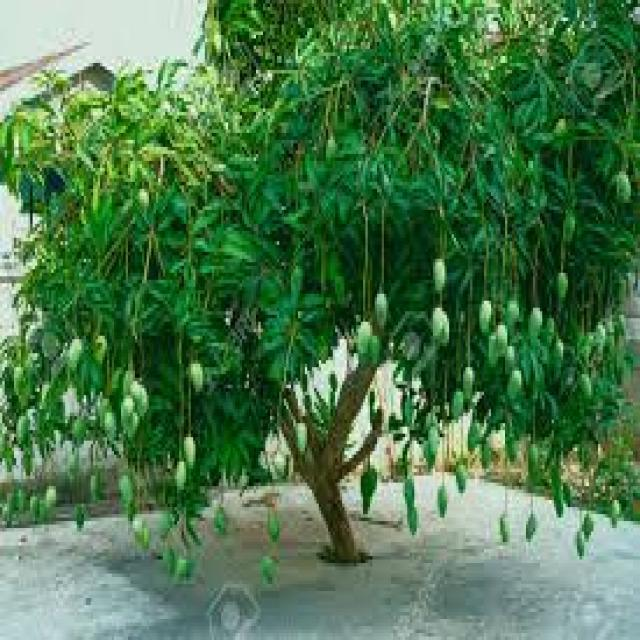Tree: (25, 26, 609, 578)
